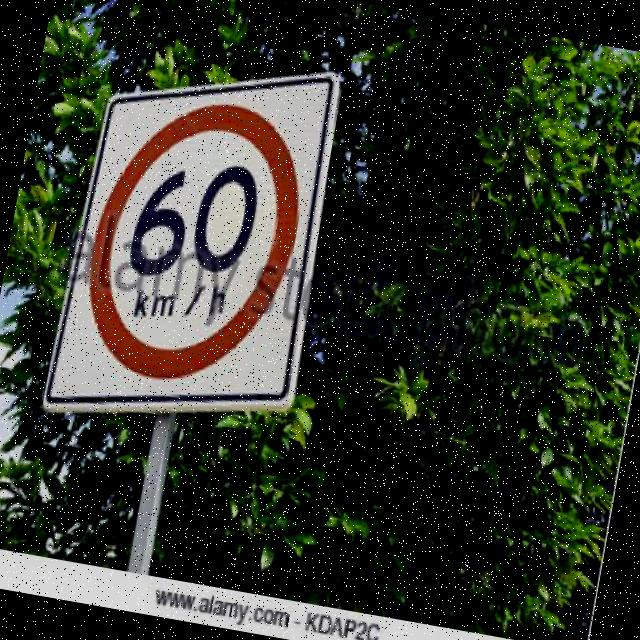Ograniczenie predkosci do 60: (68, 83, 320, 400)
